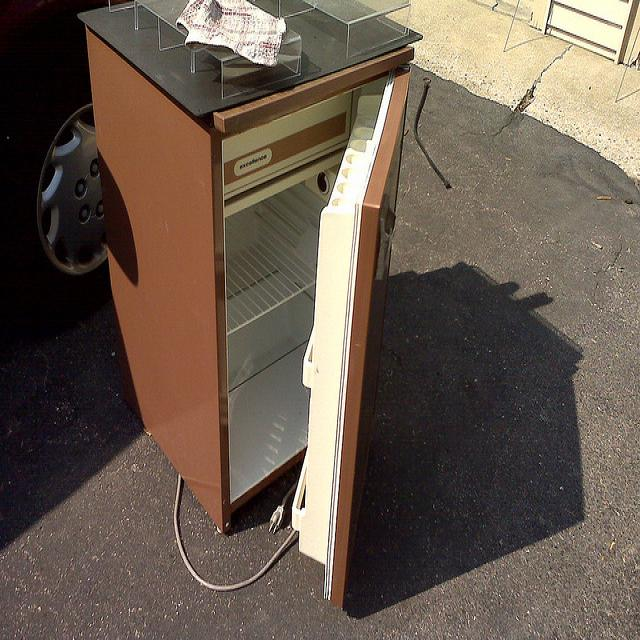Vehicle: (0, 1, 115, 359)
